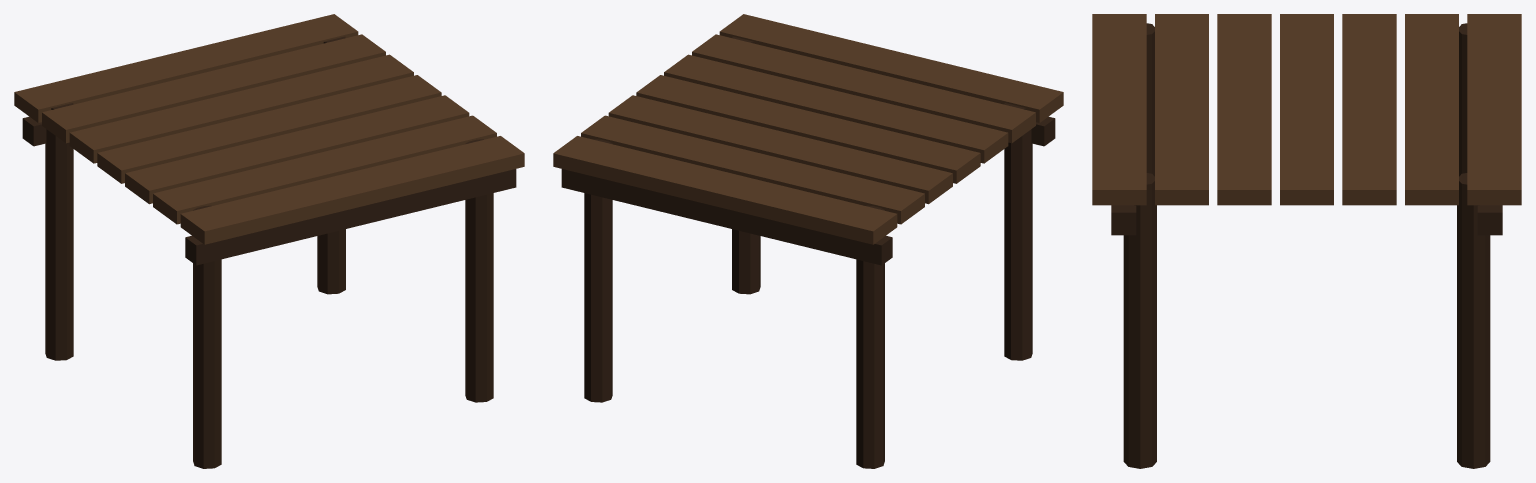
Rendered from AUR_Dock_2x2m.obj.
The picture shows the model from 3 angles, left to right: view 1: azimuth 30°, elevation 25°; view 2: azimuth 150°, elevation 25°; view 3: azimuth 270°, elevation 25°; orthographic projection. The views are drawn at different scales.
Parts seen in each view (by area): view 1: plank_6, plank_2, plank_3, plank_4, plank_1, plank_5, plank_0, beam_12, pile_7, pile_8, pile_10, pile_9 (+1 smaller); view 2: plank_0, plank_4, plank_3, plank_2, plank_5, plank_1, plank_6, beam_11, pile_8, pile_7, pile_9, pile_10 (+1 smaller); view 3: plank_0, plank_2, plank_4, plank_6, plank_1, plank_3, plank_5, pile_9, pile_10, pile_7, pile_8, beam_11 (+1 smaller).
Part boxes in pixels (x1=…): plank_6: x1=180, y1=136, x2=524, y2=244; plank_2: x1=69, y1=54, x2=413, y2=163; plank_3: x1=97, y1=75, x2=441, y2=183; plank_4: x1=125, y1=95, x2=469, y2=204; plank_1: x1=42, y1=34, x2=385, y2=143; plank_5: x1=153, y1=115, x2=496, y2=224; plank_0: x1=14, y1=14, x2=358, y2=122; beam_12: x1=185, y1=169, x2=516, y2=265; pile_7: x1=45, y1=103, x2=73, y2=360; pile_8: x1=193, y1=205, x2=221, y2=468; pile_10: x1=465, y1=139, x2=493, y2=402; pile_9: x1=317, y1=36, x2=345, y2=294; plank_0: x1=553, y1=136, x2=897, y2=244; plank_4: x1=664, y1=54, x2=1008, y2=163; plank_3: x1=636, y1=75, x2=980, y2=183; plank_2: x1=608, y1=95, x2=952, y2=204; plank_5: x1=692, y1=34, x2=1035, y2=143; plank_1: x1=581, y1=115, x2=924, y2=224; plank_6: x1=719, y1=14, x2=1063, y2=122; beam_11: x1=561, y1=169, x2=892, y2=265; pile_8: x1=1004, y1=103, x2=1032, y2=360; pile_7: x1=856, y1=205, x2=884, y2=468; pile_9: x1=584, y1=139, x2=612, y2=402; pile_10: x1=732, y1=36, x2=760, y2=294; plank_0: x1=1467, y1=14, x2=1521, y2=205; plank_2: x1=1342, y1=14, x2=1396, y2=205; plank_4: x1=1217, y1=14, x2=1271, y2=205; plank_6: x1=1092, y1=14, x2=1146, y2=205; plank_1: x1=1405, y1=14, x2=1458, y2=205; plank_3: x1=1280, y1=14, x2=1333, y2=205; plank_5: x1=1155, y1=14, x2=1208, y2=205; pile_9: x1=1457, y1=173, x2=1490, y2=468; pile_10: x1=1123, y1=173, x2=1156, y2=468; pile_7: x1=1459, y1=23, x2=1467, y2=176; pile_8: x1=1146, y1=23, x2=1154, y2=176; beam_11: x1=1477, y1=205, x2=1502, y2=235.
Size of the model in its own units: 2 by 1.51 by 2.06.
